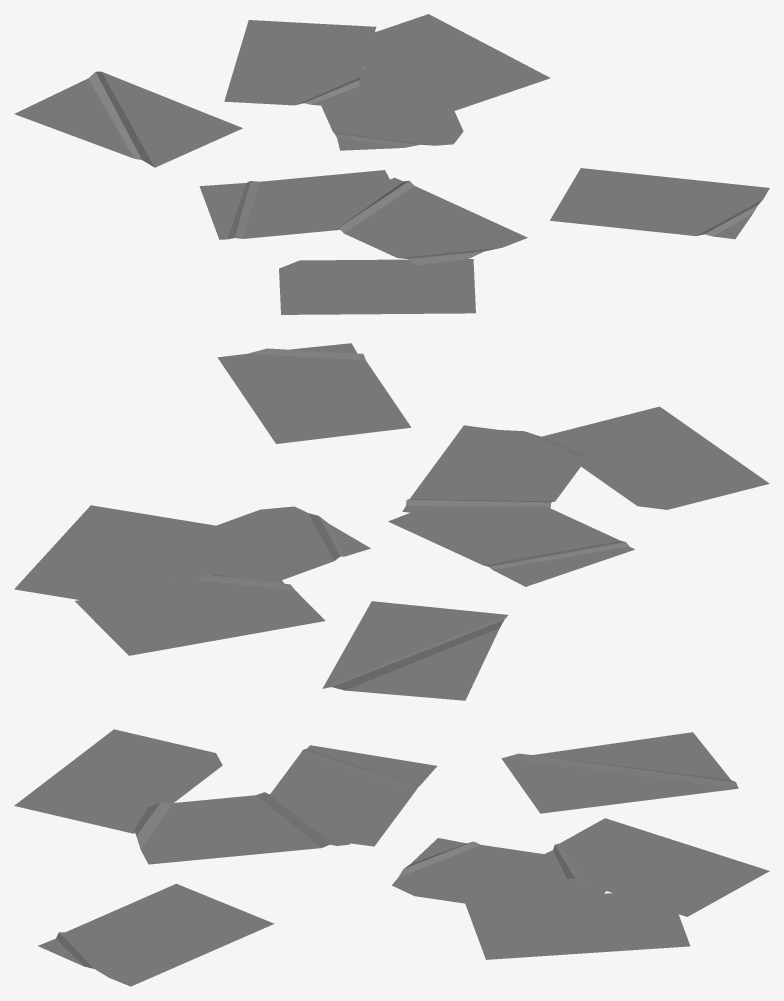
The model's file is samurai_SM_Gen_Prop_Papers_02.gltf.
3 views of the same model, one above another, from view 1: azimuth 30°, elevation 25°; view 2: azimuth 150°, elevation 25°; view 3: azimuth 270°, elevation 25° (orthographic). The views are drawn at different scales.
Visible parts, largest first — view 1: SM_Gen_Prop_Papers_02; view 2: SM_Gen_Prop_Papers_02; view 3: SM_Gen_Prop_Papers_02.
Part boxes in pixels (bbox=[...]): SM_Gen_Prop_Papers_02: bbox=[14, 14, 769, 314]; SM_Gen_Prop_Papers_02: bbox=[14, 343, 769, 700]; SM_Gen_Prop_Papers_02: bbox=[14, 729, 769, 986].
Bounding box in the file's own units: 0.9924 × 0.00714 × 1.23.
1 material, 1 textured.
